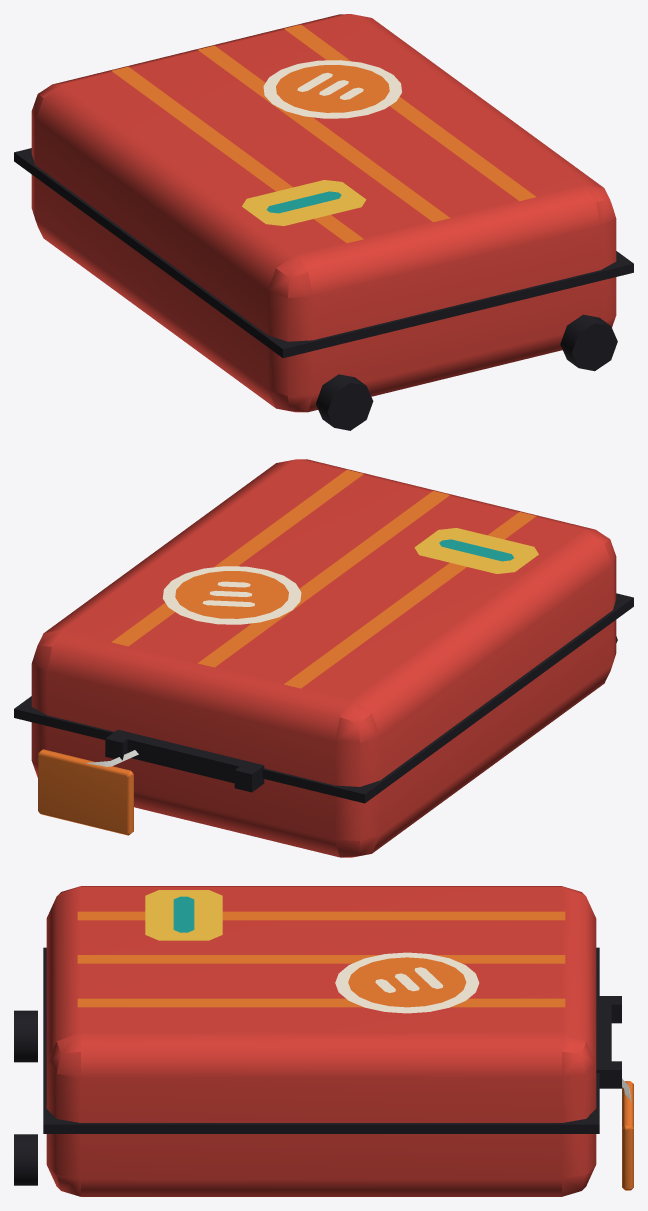
File: MaletaCerrada.fbx
The picture shows the model from 3 angles, top to bottom: view 1: azimuth 30°, elevation 25°; view 2: azimuth 150°, elevation 25°; view 3: azimuth 270°, elevation 25°; orthographic projection. The views are drawn at different scales.
Visible parts, largest first — view 1: MaletaCerrada; view 2: MaletaCerrada; view 3: MaletaCerrada.
Boxes of the visible parts, x1=… form: MaletaCerrada: x1=14, y1=14, x2=633, y2=430; MaletaCerrada: x1=14, y1=459, x2=633, y2=857; MaletaCerrada: x1=14, y1=886, x2=633, y2=1196.
Size of the model in its own units: 2.44 by 1.07 by 3.61.
Materials: 1 (1 with a texture image).
